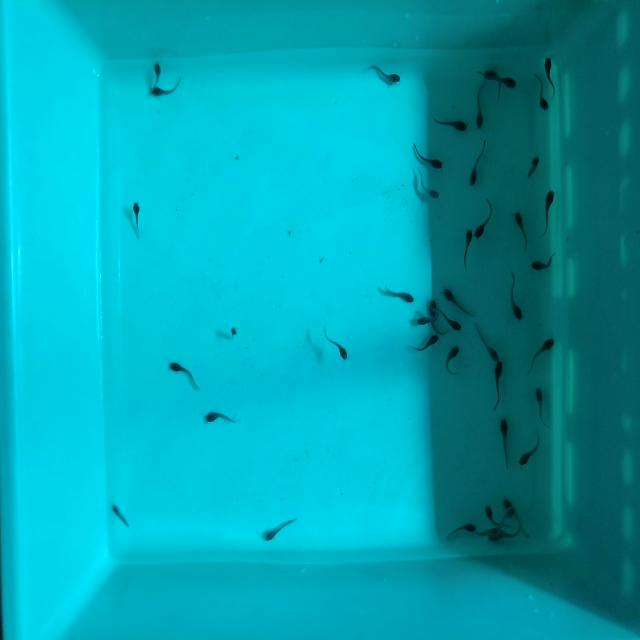lele: (522, 336, 558, 376), (500, 494, 532, 539), (442, 287, 478, 322), (470, 322, 500, 364), (319, 326, 352, 364), (406, 140, 444, 172), (516, 430, 546, 470), (263, 512, 302, 542), (465, 136, 487, 188), (168, 356, 204, 386), (537, 186, 557, 239), (507, 273, 527, 325), (472, 198, 496, 241), (364, 62, 402, 88), (150, 78, 186, 102), (490, 359, 506, 411), (532, 386, 550, 432), (430, 114, 470, 134), (382, 284, 418, 306), (531, 72, 551, 111), (512, 211, 530, 254), (416, 168, 440, 200), (498, 415, 512, 469), (410, 332, 443, 354), (528, 250, 559, 273), (474, 80, 488, 129), (443, 521, 477, 541), (443, 344, 462, 378), (110, 500, 133, 528), (543, 56, 557, 98), (461, 227, 473, 271), (203, 413, 237, 428), (498, 69, 518, 94), (131, 200, 143, 237), (527, 155, 543, 181), (475, 66, 498, 83), (150, 60, 162, 90), (445, 315, 462, 335), (412, 316, 440, 327), (488, 531, 520, 540), (428, 294, 441, 316), (484, 504, 496, 524), (502, 508, 515, 524), (476, 526, 497, 535), (229, 326, 238, 341)
